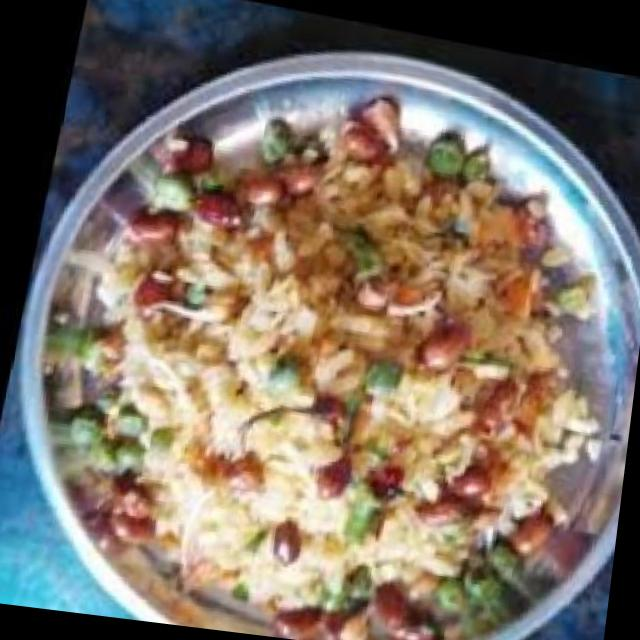poha: (1, 38, 640, 640)
